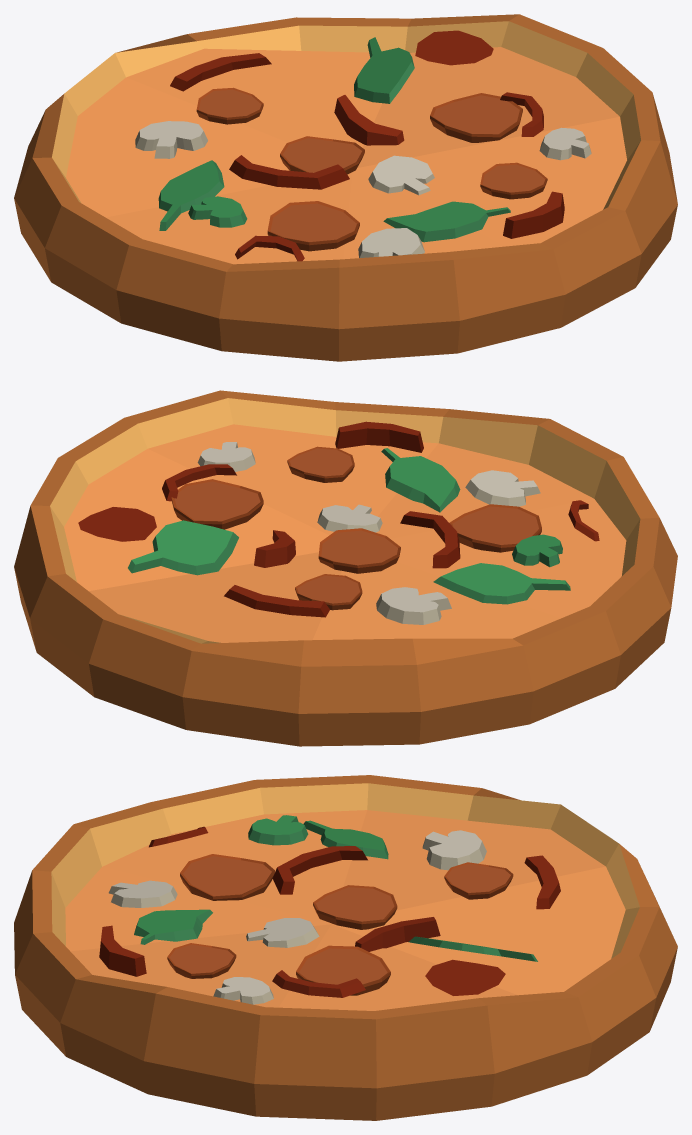
The model's file is pizza.fbx.
3 renders of one model, top to bottom at view 1: azimuth 30°, elevation 25°; view 2: azimuth 150°, elevation 25°; view 3: azimuth 270°, elevation 25°, orthographic.
Parts seen in each view (by area): view 1: Mushrooms; view 2: Mushrooms; view 3: Mushrooms.
Boxes of the visible parts, x1,y1,x2,y2 form: Mushrooms: (14, 14, 677, 361); Mushrooms: (14, 390, 677, 746); Mushrooms: (14, 775, 677, 1120).
Size of the model in its own units: 47.9 by 7.84 by 47.73.
